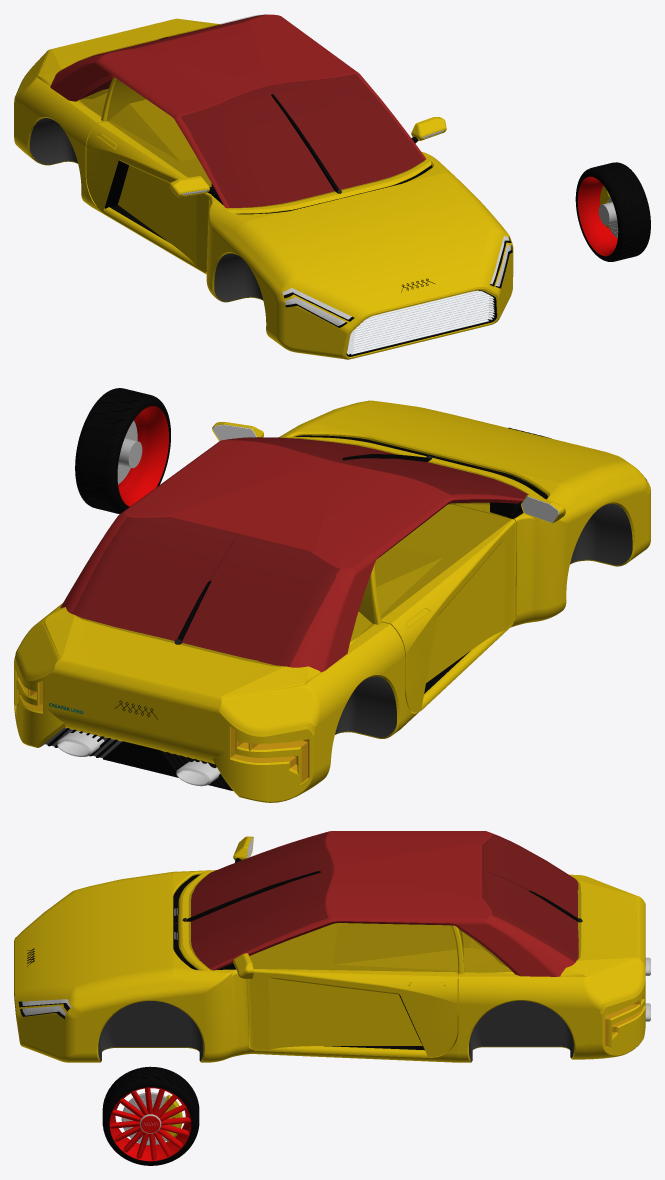
3 views of the same model, one above another, from view 1: azimuth 30°, elevation 25°; view 2: azimuth 150°, elevation 25°; view 3: azimuth 270°, elevation 25° (orthographic). The views are drawn at different scales.
Bounding box in the file's own units: 0.0325 × 0.0125 × 0.0436.
24 materials, 2 textured.
